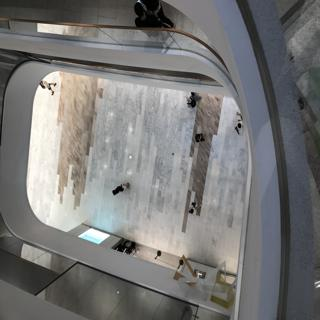person: (110, 179, 135, 199)
